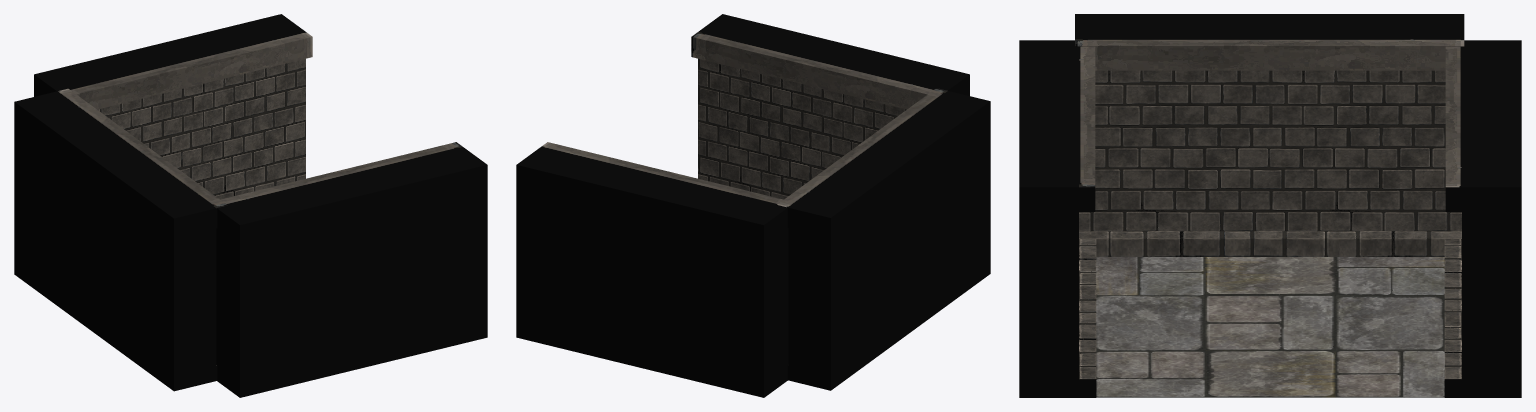
Rendered from ModularDeadEnd01.fbx.
3 renders of one model, left to right at view 1: azimuth 30°, elevation 25°; view 2: azimuth 150°, elevation 25°; view 3: azimuth 270°, elevation 25°, orthographic. The views are drawn at different scales.
Visible parts, largest first — view 1: Plane; view 2: Plane; view 3: Plane, Plane.001.
Boxes of the visible parts, x1=… form: Plane: x1=14, y1=14, x2=487, y2=397; Plane: x1=516, y1=14, x2=990, y2=397; Plane: x1=1019, y1=14, x2=1521, y2=397; Plane.001: x1=1096, y1=257, x2=1444, y2=397.
Size of the model in its own units: 3.52 by 2.01 by 4.32.
2 materials, 2 textured.
